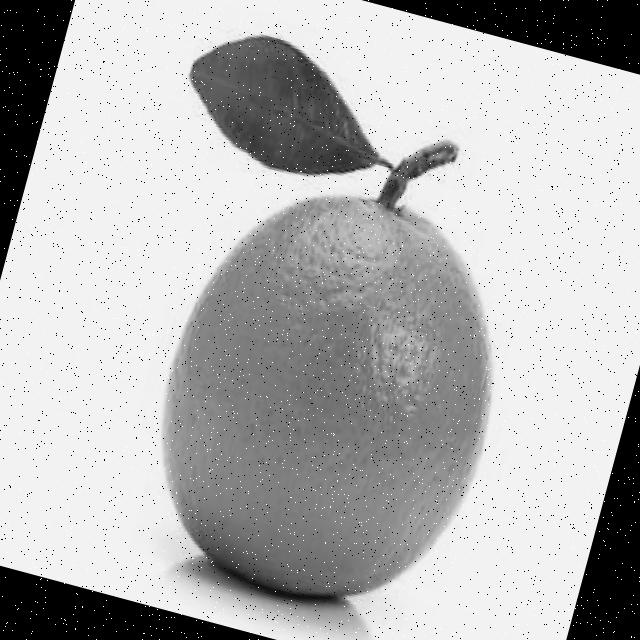Ripe: (121, 148, 544, 634)
